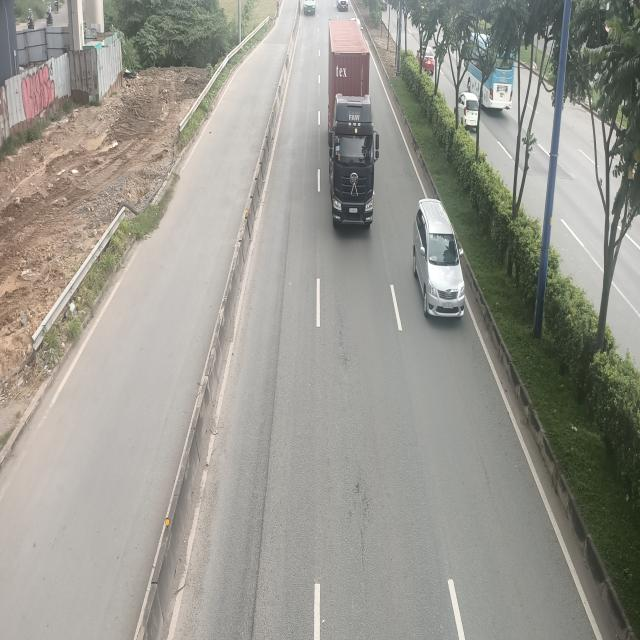car: (412, 200, 464, 323)
container: (328, 21, 380, 231)
